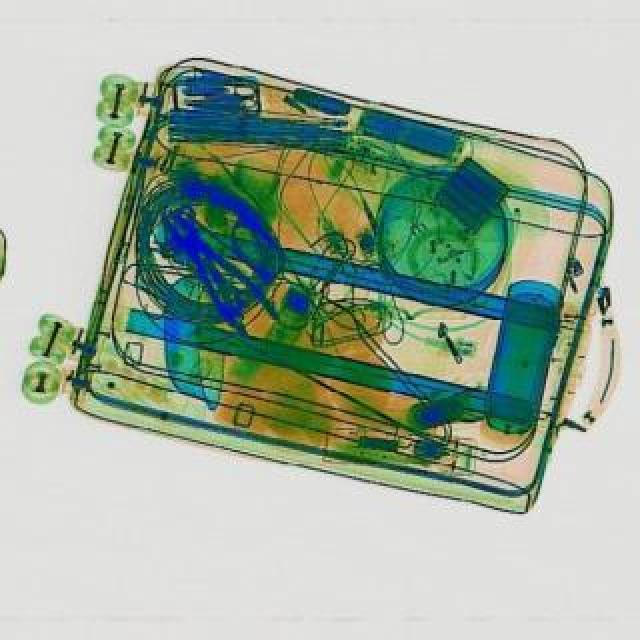wrench: (152, 200, 286, 342)
